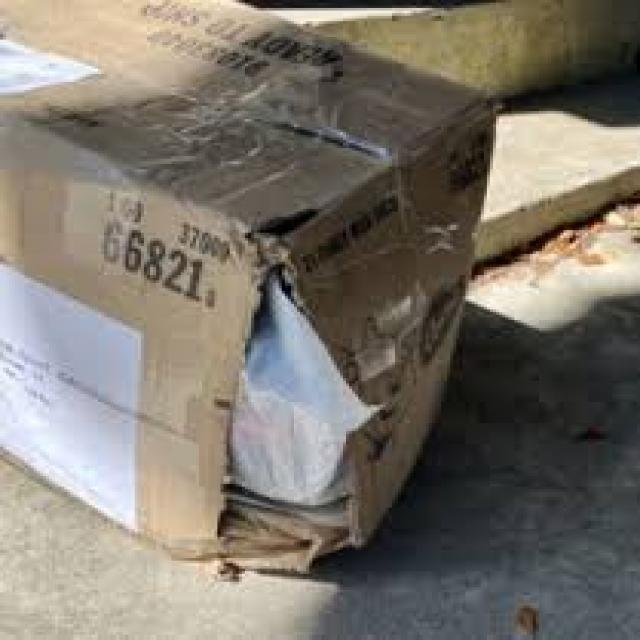hole: (229, 210, 365, 576)
